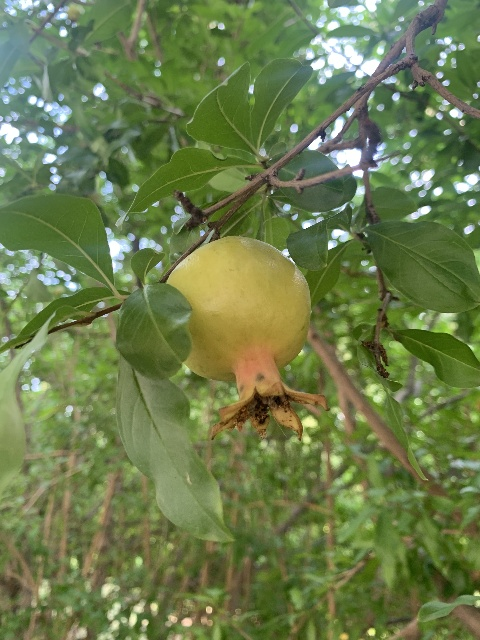mid-growth: (160, 235, 328, 441)
